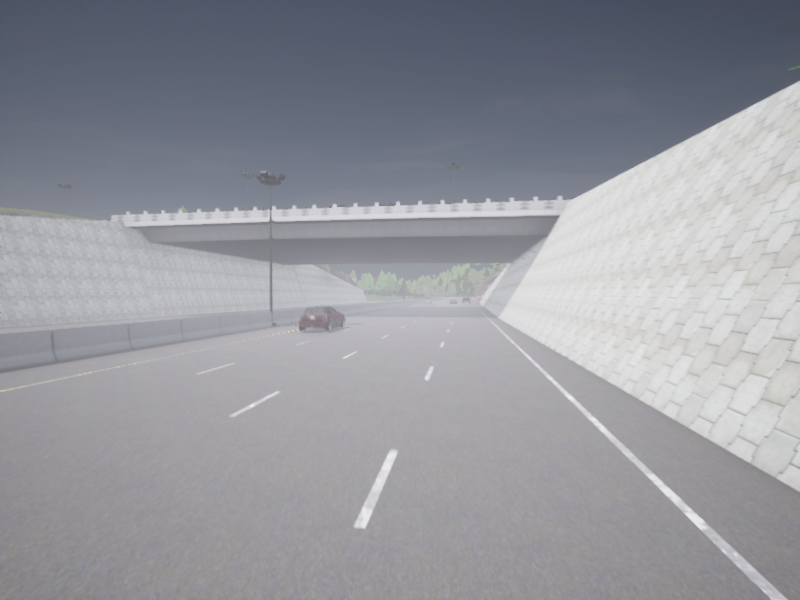vehicle: (299, 306, 345, 331), (462, 296, 470, 303), (424, 298, 432, 303), (450, 299, 457, 303)
